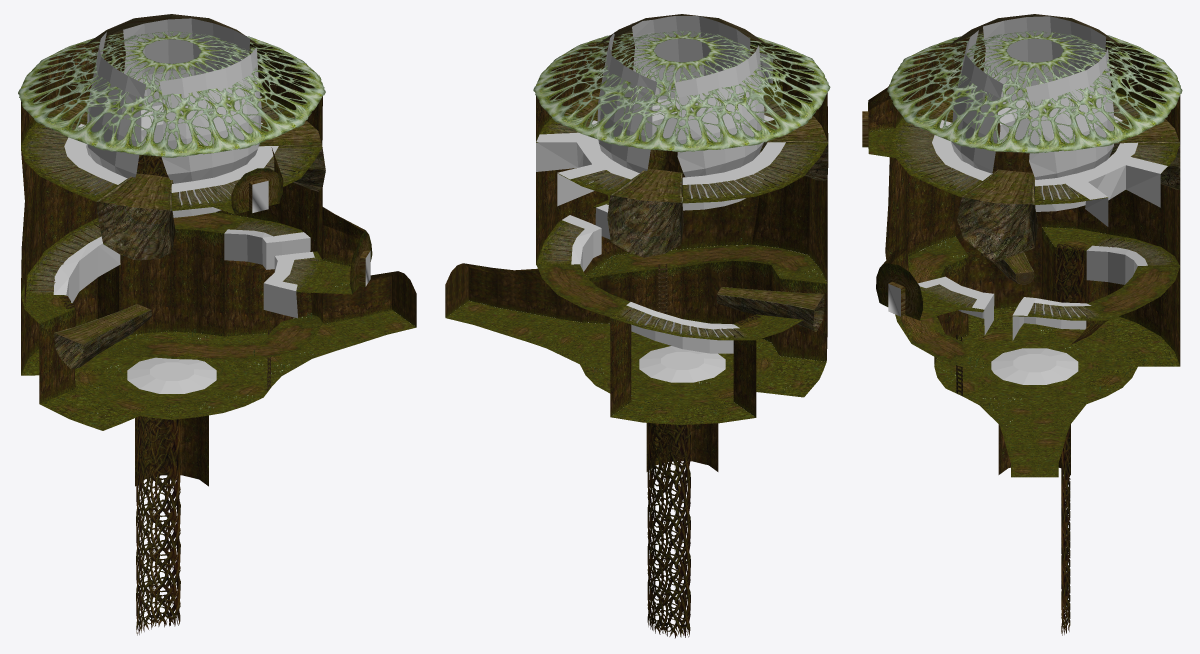
The model's file is map.obj.
3 renders of one model, left to right at view 1: azimuth 30°, elevation 25°; view 2: azimuth 150°, elevation 25°; view 3: azimuth 270°, elevation 25°, orthographic. The views are drawn at different scales.
Parts seen in each view (by area): view 1: inside_the_deku_tree_00.dmx.004, inside_the_deku_tree_00.dmx, inside_the_deku_tree_00.dmx.012, inside_the_deku_tree_00.dmx.005, inside_the_deku_tree_00.dmx.002, inside_the_deku_tree_00.dmx.011, Body_inside_the_deku_tree_props_curvedcobweb.dmx.001, inside_the_deku_tree_00.dmx.009, Body_inside_the_deku_tree_props_curvedcobweb.dmx.003, inside_the_deku_tree_00.dmx.008, Body_inside_the_deku_tree_props_curvedcobweb.dmx.002, COBWEB_FLOORHOLE.001 (+2 smaller); view 2: inside_the_deku_tree_00.dmx.004, inside_the_deku_tree_00.dmx, inside_the_deku_tree_00.dmx.012, inside_the_deku_tree_00.dmx.011, inside_the_deku_tree_00.dmx.005, inside_the_deku_tree_00.dmx.002, inside_the_deku_tree_00.dmx.009, Body_inside_the_deku_tree_props_curvedcobweb.dmx.002, Body_inside_the_deku_tree_props_curvedcobweb.dmx.001, inside_the_deku_tree_00.dmx.008, Body_inside_the_deku_tree_props_curvedcobweb.dmx.003, COBWEB_FLOORHOLE.001 (+2 smaller); view 3: inside_the_deku_tree_00.dmx, inside_the_deku_tree_00.dmx.004, inside_the_deku_tree_00.dmx.012, inside_the_deku_tree_00.dmx.011, inside_the_deku_tree_00.dmx.002, Body_inside_the_deku_tree_props_curvedcobweb.dmx.002, Body_inside_the_deku_tree_props_curvedcobweb.dmx.003, inside_the_deku_tree_00.dmx.009, inside_the_deku_tree_00.dmx.005, inside_the_deku_tree_00.dmx.008, Body_inside_the_deku_tree_props_curvedcobweb.dmx.001, COBWEB_FLOORHOLE.001 (+2 smaller).
Boxes of the visible parts, left/top/right/bottom form: inside_the_deku_tree_00.dmx.004: left=21, top=33, right=416, bottom=486; inside_the_deku_tree_00.dmx: left=21, top=203, right=415, bottom=430; inside_the_deku_tree_00.dmx.012: left=18, top=31, right=325, bottom=157; inside_the_deku_tree_00.dmx.005: left=59, top=33, right=350, bottom=635; inside_the_deku_tree_00.dmx.002: left=21, top=97, right=322, bottom=295; inside_the_deku_tree_00.dmx.011: left=53, top=96, right=314, bottom=318; Body_inside_the_deku_tree_props_curvedcobweb.dmx.001: left=159, top=48, right=261, bottom=183; inside_the_deku_tree_00.dmx.009: left=42, top=119, right=325, bottom=368; Body_inside_the_deku_tree_props_curvedcobweb.dmx.003: left=123, top=18, right=250, bottom=130; inside_the_deku_tree_00.dmx.008: left=47, top=95, right=322, bottom=344; Body_inside_the_deku_tree_props_curvedcobweb.dmx.002: left=87, top=32, right=145, bottom=178; COBWEB_FLOORHOLE.001: left=127, top=357, right=216, bottom=393; inside_the_deku_tree_00.dmx.004: left=445, top=33, right=828, bottom=471; inside_the_deku_tree_00.dmx: left=446, top=82, right=827, bottom=424; inside_the_deku_tree_00.dmx.012: left=533, top=30, right=830, bottom=152; inside_the_deku_tree_00.dmx.011: left=536, top=107, right=785, bottom=353; inside_the_deku_tree_00.dmx.005: left=536, top=67, right=821, bottom=638; inside_the_deku_tree_00.dmx.002: left=536, top=95, right=827, bottom=340; inside_the_deku_tree_00.dmx.009: left=557, top=114, right=828, bottom=331; Body_inside_the_deku_tree_props_curvedcobweb.dmx.002: left=674, top=45, right=764, bottom=177; Body_inside_the_deku_tree_props_curvedcobweb.dmx.001: left=631, top=16, right=750, bottom=121; inside_the_deku_tree_00.dmx.008: left=565, top=92, right=827, bottom=310; Body_inside_the_deku_tree_props_curvedcobweb.dmx.003: left=597, top=32, right=657, bottom=173; COBWEB_FLOORHOLE.001: left=639, top=346, right=725, bottom=382; inside_the_deku_tree_00.dmx: left=868, top=128, right=1179, bottom=477; inside_the_deku_tree_00.dmx.004: left=868, top=34, right=1180, bottom=474; inside_the_deku_tree_00.dmx.012: left=887, top=30, right=1182, bottom=153; inside_the_deku_tree_00.dmx.011: left=918, top=115, right=1167, bottom=340; inside_the_deku_tree_00.dmx.002: left=890, top=92, right=1180, bottom=320; Body_inside_the_deku_tree_props_curvedcobweb.dmx.002: left=983, top=16, right=1105, bottom=125; Body_inside_the_deku_tree_props_curvedcobweb.dmx.003: left=1026, top=48, right=1113, bottom=179; inside_the_deku_tree_00.dmx.009: left=907, top=117, right=1180, bottom=283; inside_the_deku_tree_00.dmx.005: left=938, top=240, right=1173, bottom=635; inside_the_deku_tree_00.dmx.008: left=917, top=92, right=1179, bottom=273; Body_inside_the_deku_tree_props_curvedcobweb.dmx.001: left=951, top=30, right=1003, bottom=174; COBWEB_FLOORHOLE.001: left=991, top=348, right=1078, bottom=384.
Size of the model in its own units: 29.8 by 46.43 by 23.31.
